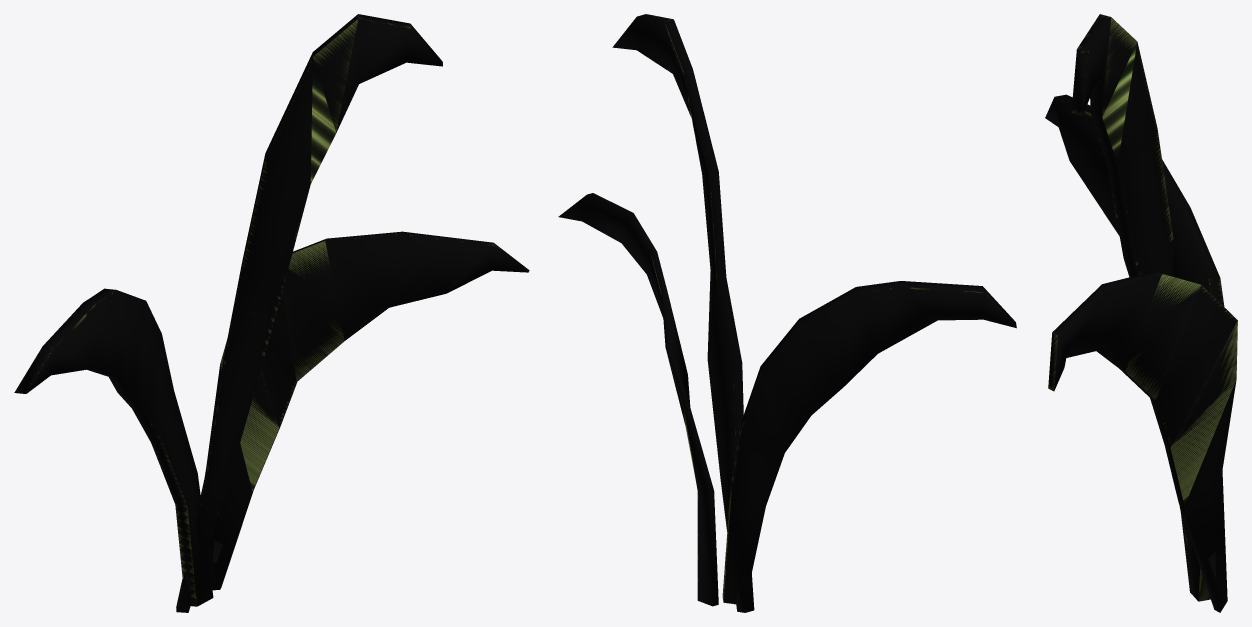
The model's file is G11_Shahidplant1.fbx.
3 views of the same model, side by side, from view 1: azimuth 30°, elevation 25°; view 2: azimuth 150°, elevation 25°; view 3: azimuth 270°, elevation 25° (orthographic). The views are drawn at different scales.
Parts seen in each view (by area): view 1: node_id30; view 2: node_id30; view 3: node_id30.
Boxes of the visible parts, <box> form: node_id30: <box>14,14,529,612</box>; node_id30: <box>558,14,1016,612</box>; node_id30: <box>1045,14,1237,612</box>.
Size of the model in its own units: 0.2927 by 0.3244 by 0.0873.
Materials: 1 (1 with a texture image).
